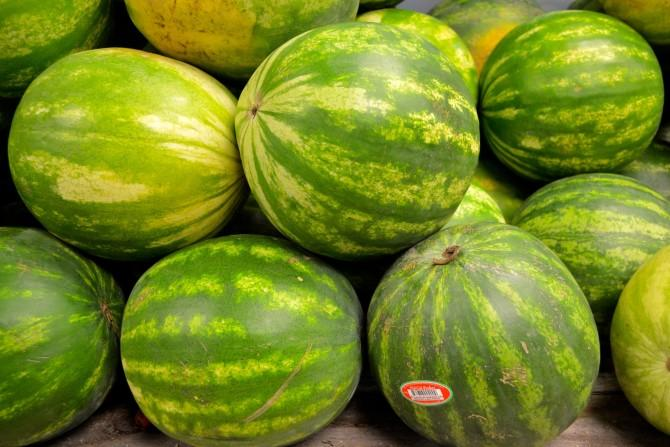dua_hau: (234, 21, 482, 261), (364, 226, 602, 446), (119, 232, 364, 442), (9, 46, 242, 258), (483, 12, 665, 192)
